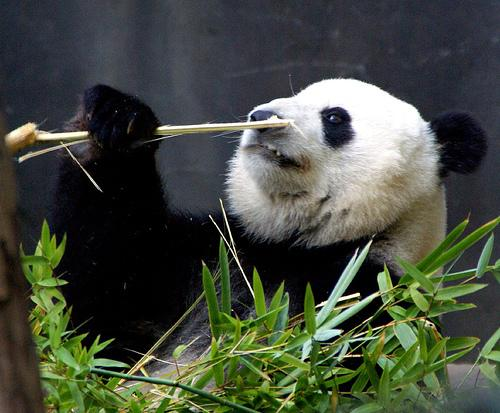panda: (223, 79, 486, 315), (52, 84, 219, 361)
